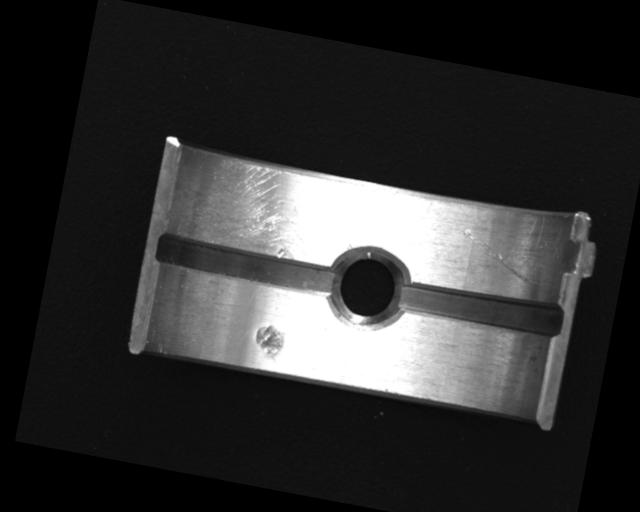bruise: (250, 322, 286, 364)
gap: (154, 230, 344, 300), (398, 277, 564, 341)
hole: (324, 238, 413, 334)
nick: (453, 225, 542, 287)
scratch: (174, 145, 351, 268)
